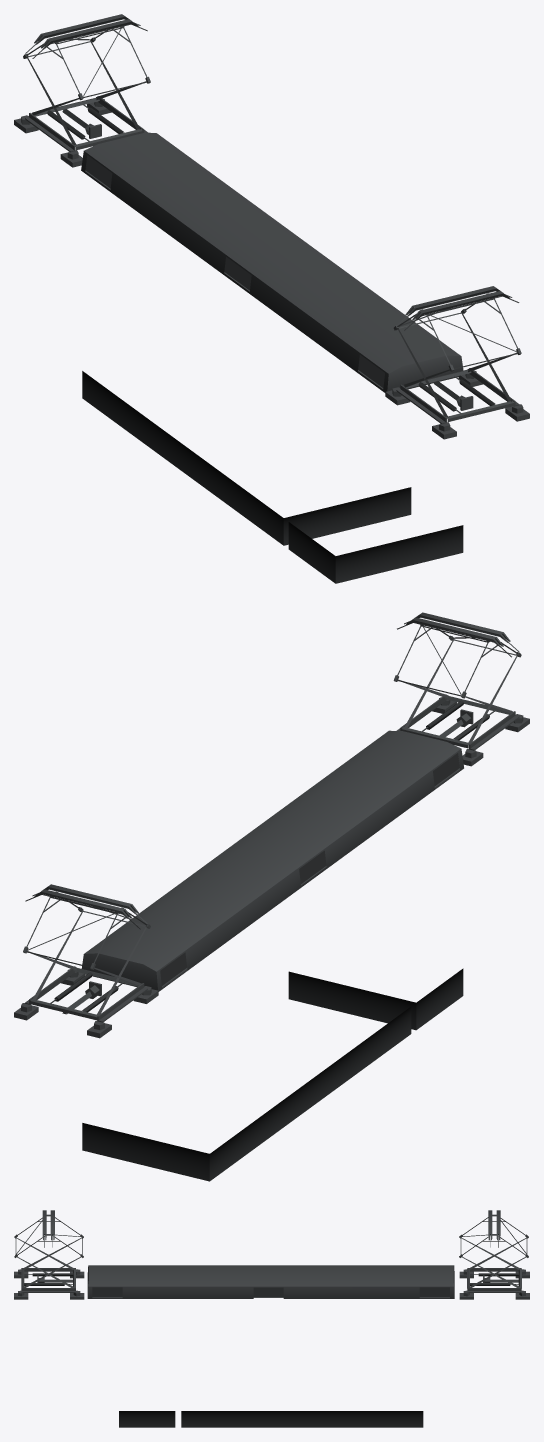
Rendered from UV_PANTA00.glb.
3 renders of one model, top to bottom at view 1: azimuth 30°, elevation 25°; view 2: azimuth 150°, elevation 25°; view 3: azimuth 270°, elevation 25°, orthographic. The views are drawn at different scales.
Visible parts, largest first — view 1: PANTA; view 2: PANTA; view 3: PANTA.
Part boxes in pixels (x1=…): PANTA: x1=14, y1=14, x2=529, y2=583; PANTA: x1=14, y1=612, x2=529, y2=1181; PANTA: x1=14, y1=1210, x2=529, y2=1427.
Bounding box in the file's own units: 4.96 × 11.57 × 28.94.
Materials: 1 (1 with a texture image).
